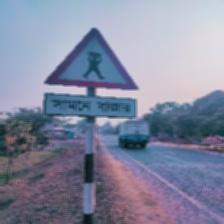Market-in-front: (43, 27, 140, 119)
